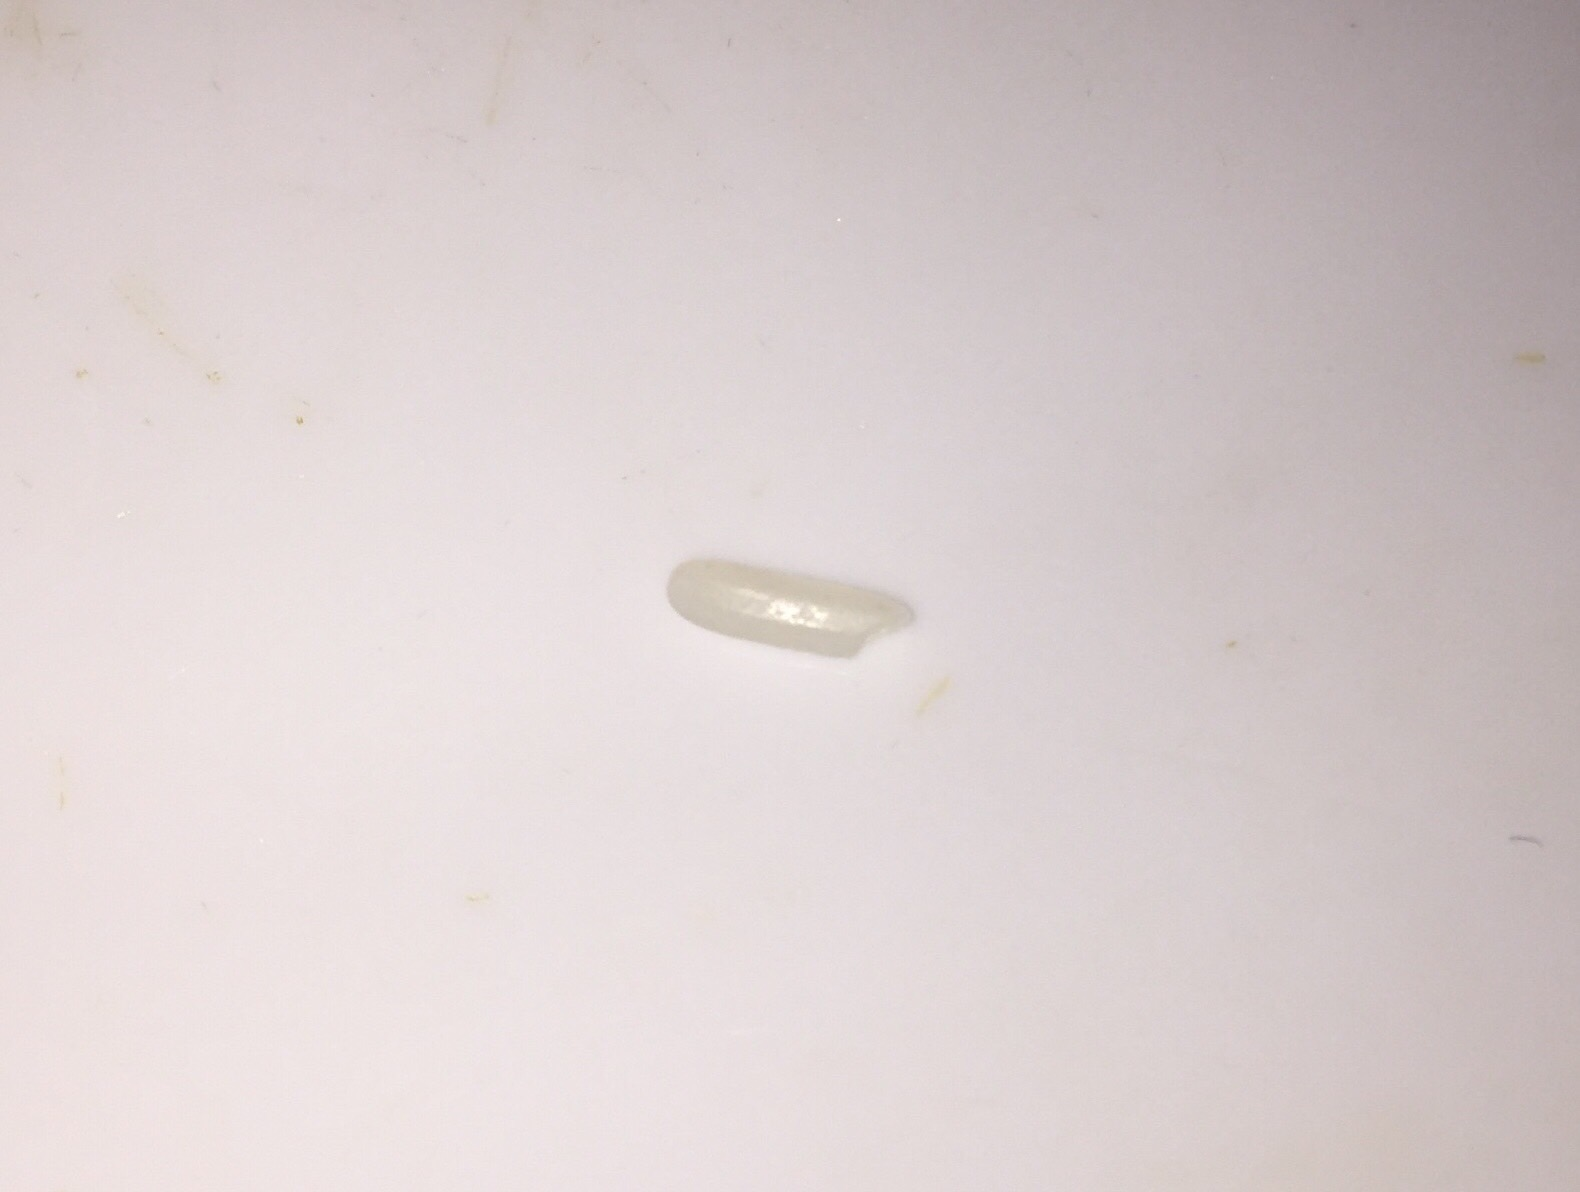Gao Ngoc Troi: (677, 540, 930, 680)
